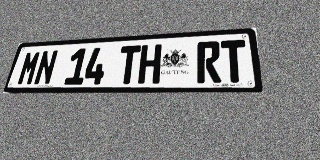1: (64, 48, 89, 85)
4: (83, 47, 108, 85)
H: (138, 44, 162, 84)
M: (16, 51, 42, 86)
N: (33, 50, 59, 85)
R: (197, 41, 221, 83)
T: (221, 40, 248, 83), (116, 45, 141, 84)
